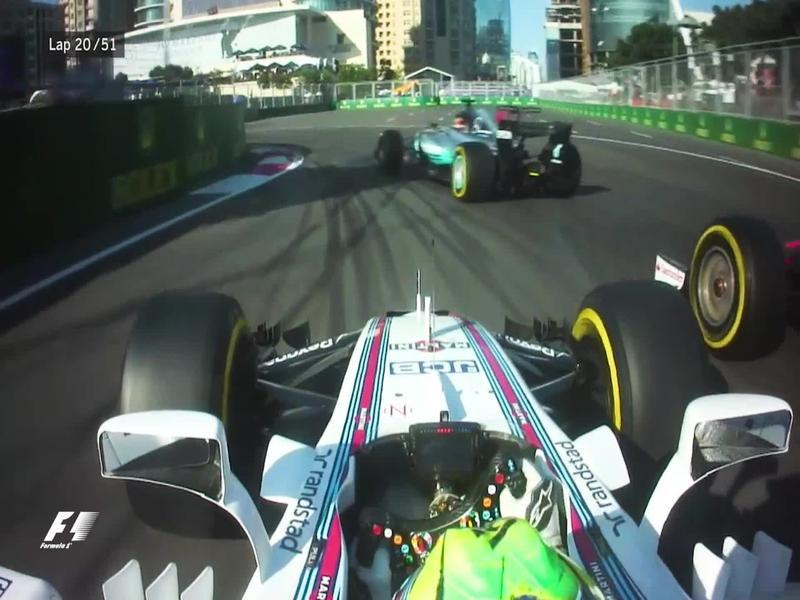racecar: (369, 83, 586, 216)
